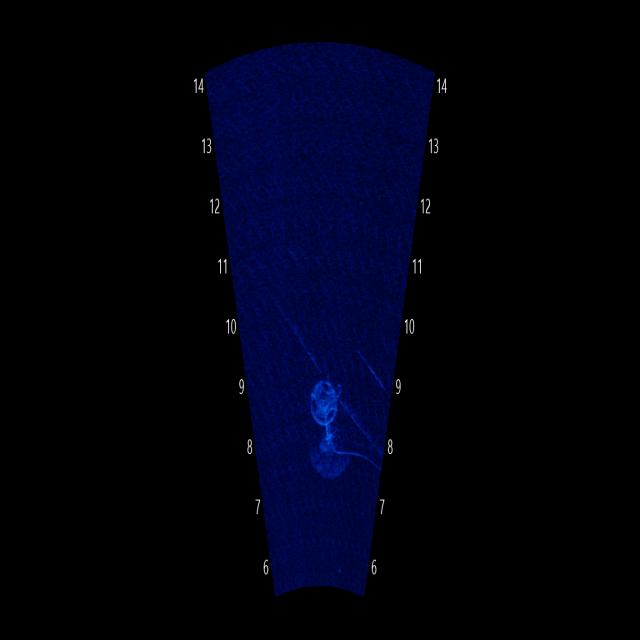circle: (304, 370, 349, 433)
